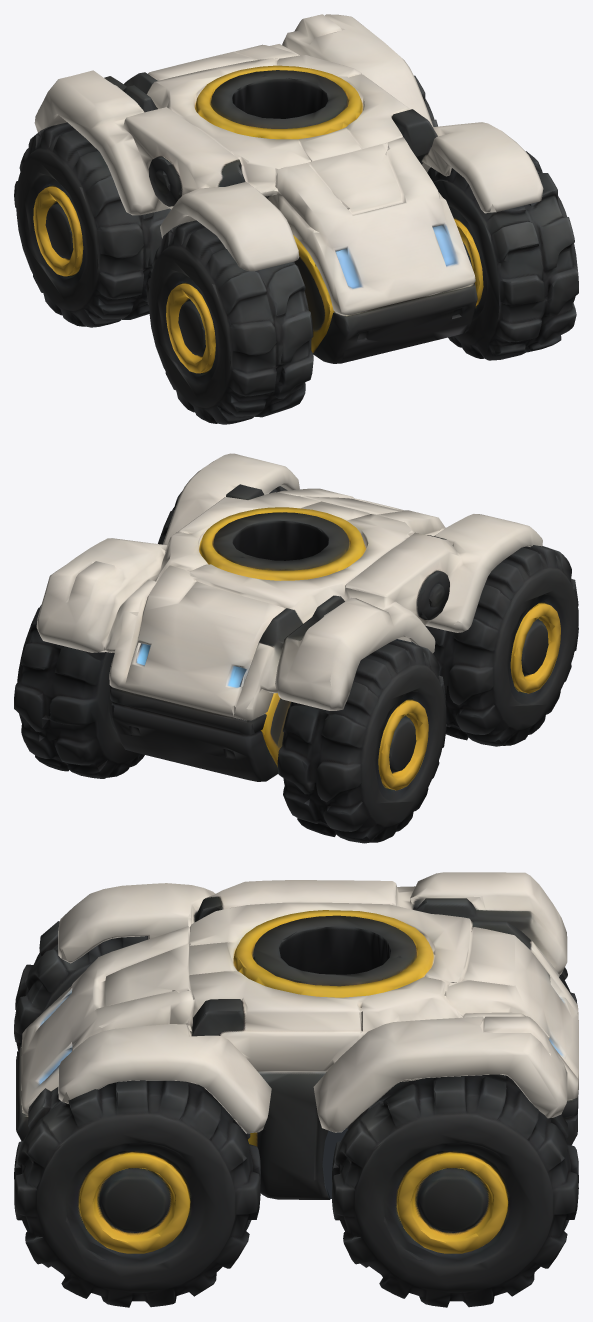
3 renders of one model, top to bottom at view 1: azimuth 30°, elevation 25°; view 2: azimuth 150°, elevation 25°; view 3: azimuth 270°, elevation 25°, orthographic. The views are drawn at different scales.
Visible parts, largest first — view 1: C03Armor.001, TireLeftRear.001, TireLeftFront.001, TireRightRear.001; view 2: C03Armor.001, TireLeftFront.001, TireLeftRear.001, TireRightFront.001; view 3: C03Armor.001, TireRightFront.001, TireRightRear.001, TireLeftRear.001.
Boxes of the visible parts, x1,y1,x2,y2 form: C03Armor.001: [34, 14, 543, 363]; TireLeftRear.001: [146, 220, 313, 424]; TireLeftFront.001: [14, 122, 171, 327]; TireRightRear.001: [427, 151, 578, 360]; C03Armor.001: [36, 453, 542, 781]; TireLeftFront.001: [277, 640, 446, 843]; TireLeftRear.001: [425, 545, 578, 746]; TireRightFront.001: [14, 605, 144, 778]; C03Armor.001: [16, 872, 578, 1199]; TireRightFront.001: [332, 1074, 578, 1307]; TireRightRear.001: [14, 1080, 260, 1307]; TireLeftRear.001: [14, 921, 148, 1054].
Bounding box in the file's own units: 1.65 × 0.9923 × 1.92.
2 materials, 1 textured.
